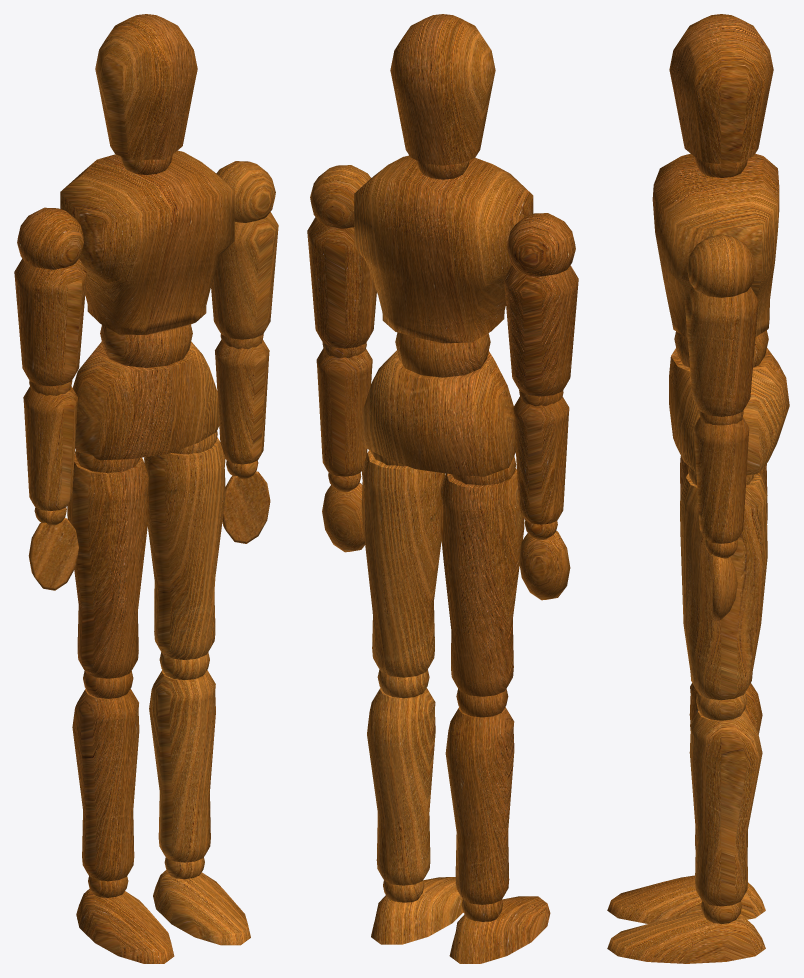
File: dummy_obj_0.obj
The picture shows the model from 3 angles, left to right: view 1: azimuth 30°, elevation 25°; view 2: azimuth 150°, elevation 25°; view 3: azimuth 270°, elevation 25°; orthographic projection. The views are drawn at different scales.
Parts seen in each view (by area): view 1: dummy_hips3_dummy_belly_dummy_torso, dummy_hips3_dummy_lpelvis_dummy_lupleg, dummy_hips3_dummy_rpelvis_dummy_rupleg, dummy_hips3, dummy_hips3_dummy_belly_dummy_torso_dummy_neck_dummy_headq, dummy_hips3_dummy_rpelvis_dummy_rupleg_dummy_rknee_dummy_rleg, dummy_hips3_dummy_lpelvis_dummy_lupleg_dummy_lknee_dummy_lleg, dummy_hips3_dummy_belly_dummy_torso_dummy_rshoulder_dummy_rarm, dummy_hips3_dummy_belly_dummy_torso_dummy_lshoulder_dummy_larm, dummy_hips3_dummy_belly_dummy_torso_dummy_rshoulder_dummy_r.001, dummy_hips3_dummy_belly_dummy_torso_dummy_lshoulder_dummy_l.000, dummy_hips3_dummy_lpelvis_dummy_lupleg_dummy_lknee_dummy_ll.000 (+12 smaller); view 2: dummy_hips3_dummy_belly_dummy_torso, dummy_hips3_dummy_rpelvis_dummy_rupleg, dummy_hips3_dummy_lpelvis_dummy_lupleg, dummy_hips3, dummy_hips3_dummy_belly_dummy_torso_dummy_neck_dummy_headq, dummy_hips3_dummy_rpelvis_dummy_rupleg_dummy_rknee_dummy_rleg, dummy_hips3_dummy_lpelvis_dummy_lupleg_dummy_lknee_dummy_lleg, dummy_hips3_dummy_belly_dummy_torso_dummy_rshoulder_dummy_rarm, dummy_hips3_dummy_belly_dummy_torso_dummy_lshoulder_dummy_larm, dummy_hips3_dummy_belly_dummy_torso_dummy_rshoulder_dummy_r.001, dummy_hips3_dummy_belly_dummy_torso_dummy_lshoulder_dummy_l.000, dummy_hips3_dummy_rpelvis_dummy_rupleg_dummy_rknee_dummy_rleg_d (+12 smaller); view 3: dummy_hips3_dummy_belly_dummy_torso, dummy_hips3_dummy_lpelvis_dummy_lupleg, dummy_hips3_dummy_belly_dummy_torso_dummy_neck_dummy_headq, dummy_hips3_dummy_lpelvis_dummy_lupleg_dummy_lknee_dummy_lleg, dummy_hips3_dummy_belly_dummy_torso_dummy_lshoulder_dummy_larm, dummy_hips3, dummy_hips3_dummy_lpelvis_dummy_lupleg_dummy_lknee_dummy_ll.000, dummy_hips3_dummy_belly_dummy_torso_dummy_lshoulder_dummy_l.000, dummy_hips3_dummy_rpelvis_dummy_rupleg_dummy_rknee_dummy_rleg_d, dummy_hips3_dummy_belly_dummy_torso_dummy_lshoulder, dummy_hips3_dummy_belly_dummy_torso_dummy_lshoulder_dummy_larm_, dummy_hips3_dummy_lpelvis_dummy_lupleg_dummy_lknee (+6 smaller).
Part boxes in pixels (x1=…): dummy_hips3_dummy_belly_dummy_torso: x1=60, y1=150, x2=234, y2=335; dummy_hips3_dummy_lpelvis_dummy_lupleg: x1=144, y1=437, x2=225, y2=659; dummy_hips3_dummy_rpelvis_dummy_rupleg: x1=67, y1=452, x2=148, y2=678; dummy_hips3: x1=73, y1=341, x2=219, y2=460; dummy_hips3_dummy_belly_dummy_torso_dummy_neck_dummy_headq: x1=95, y1=14, x2=197, y2=159; dummy_hips3_dummy_rpelvis_dummy_rupleg_dummy_rknee_dummy_rleg: x1=72, y1=689, x2=139, y2=881; dummy_hips3_dummy_lpelvis_dummy_lupleg_dummy_lknee_dummy_lleg: x1=149, y1=670, x2=215, y2=862; dummy_hips3_dummy_belly_dummy_torso_dummy_rshoulder_dummy_rarm: x1=14, y1=258, x2=87, y2=386; dummy_hips3_dummy_belly_dummy_torso_dummy_lshoulder_dummy_larm: x1=211, y1=212, x2=278, y2=339; dummy_hips3_dummy_belly_dummy_torso_dummy_rshoulder_dummy_r.001: x1=23, y1=386, x2=77, y2=510; dummy_hips3_dummy_belly_dummy_torso_dummy_lshoulder_dummy_l.000: x1=215, y1=339, x2=269, y2=464; dummy_hips3_dummy_lpelvis_dummy_lupleg_dummy_lknee_dummy_ll.000: x1=153, y1=870, x2=250, y2=945; dummy_hips3_dummy_belly_dummy_torso: x1=354, y1=155, x2=533, y2=343; dummy_hips3_dummy_rpelvis_dummy_rupleg: x1=440, y1=468, x2=524, y2=696; dummy_hips3_dummy_lpelvis_dummy_lupleg: x1=361, y1=450, x2=445, y2=677; dummy_hips3: x1=361, y1=350, x2=515, y2=476; dummy_hips3_dummy_belly_dummy_torso_dummy_neck_dummy_headq: x1=390, y1=14, x2=495, y2=165; dummy_hips3_dummy_rpelvis_dummy_rupleg_dummy_rknee_dummy_rleg: x1=445, y1=707, x2=514, y2=904; dummy_hips3_dummy_lpelvis_dummy_lupleg_dummy_lknee_dummy_lleg: x1=367, y1=688, x2=435, y2=885; dummy_hips3_dummy_belly_dummy_torso_dummy_rshoulder_dummy_rarm: x1=504, y1=265, x2=578, y2=396; dummy_hips3_dummy_belly_dummy_torso_dummy_lshoulder_dummy_larm: x1=307, y1=217, x2=376, y2=348; dummy_hips3_dummy_belly_dummy_torso_dummy_rshoulder_dummy_r.001: x1=513, y1=396, x2=569, y2=524; dummy_hips3_dummy_belly_dummy_torso_dummy_lshoulder_dummy_l.000: x1=316, y1=348, x2=372, y2=476; dummy_hips3_dummy_rpelvis_dummy_rupleg_dummy_rknee_dummy_rleg_d: x1=449, y1=896, x2=550, y2=963; dummy_hips3_dummy_belly_dummy_torso: x1=652, y1=153, x2=779, y2=337; dummy_hips3_dummy_lpelvis_dummy_lupleg: x1=680, y1=473, x2=767, y2=700; dummy_hips3_dummy_belly_dummy_torso_dummy_neck_dummy_headq: x1=669, y1=14, x2=773, y2=164; dummy_hips3_dummy_lpelvis_dummy_lupleg_dummy_lknee_dummy_lleg: x1=689, y1=710, x2=762, y2=906; dummy_hips3_dummy_belly_dummy_torso_dummy_lshoulder_dummy_larm: x1=684, y1=286, x2=758, y2=416; dummy_hips3: x1=669, y1=348, x2=789, y2=475; dummy_hips3_dummy_lpelvis_dummy_lupleg_dummy_lknee_dummy_ll.000: x1=607, y1=912, x2=765, y2=963; dummy_hips3_dummy_belly_dummy_torso_dummy_lshoulder_dummy_l.000: x1=693, y1=417, x2=749, y2=543; dummy_hips3_dummy_rpelvis_dummy_rupleg_dummy_rknee_dummy_rleg_d: x1=607, y1=875, x2=765, y2=923; dummy_hips3_dummy_belly_dummy_torso_dummy_lshoulder: x1=687, y1=234, x2=755, y2=297; dummy_hips3_dummy_belly_dummy_torso_dummy_lshoulder_dummy_larm_: x1=712, y1=555, x2=737, y2=622; dummy_hips3_dummy_lpelvis_dummy_lupleg_dummy_lknee: x1=696, y1=692, x2=747, y2=720.
Bounding box in the file's own units: 52.69 × 177 × 32.13.
1 material, 1 textured.
